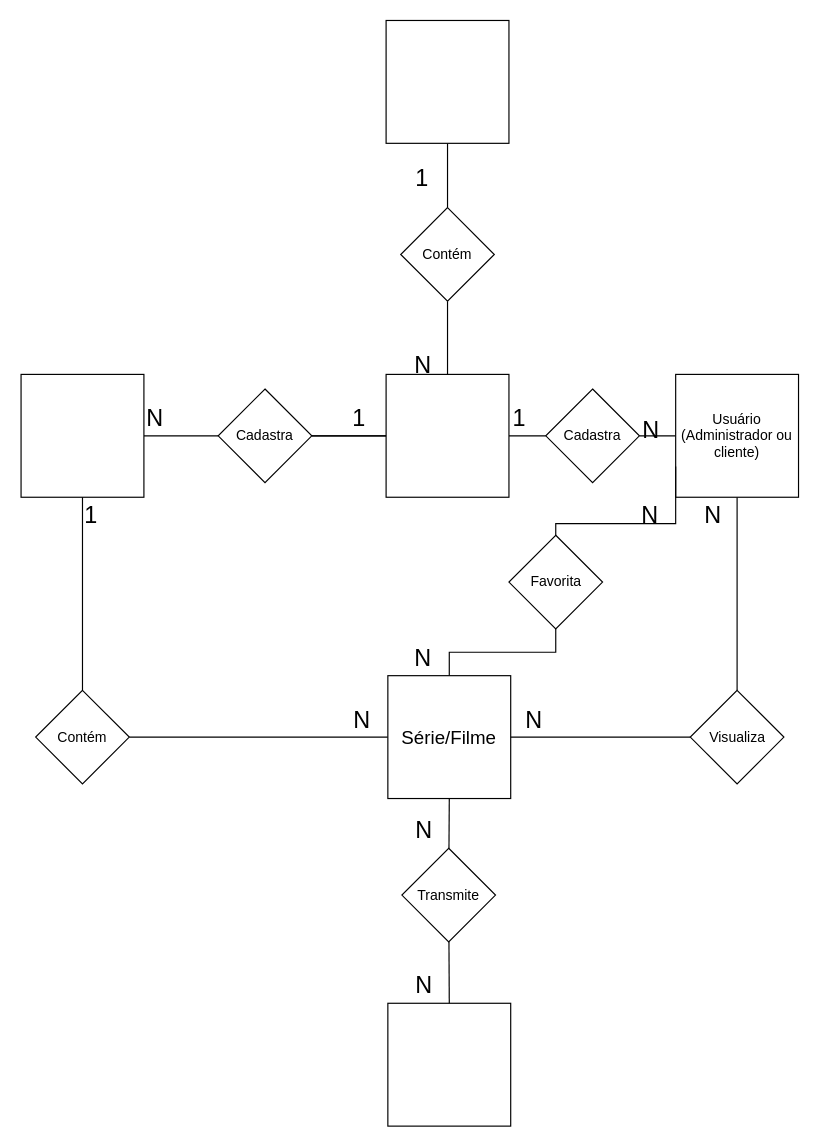
This 819x1147 diagram has some shape labels left out. The shapes that lost their labels are listed below. From the top down, each one's box as (x1, y1, x2, y2) in pixels, then its label:
(385, 19, 509, 143): OpFlix
(20, 373, 144, 497): Categoria
(385, 373, 509, 497): Administrador
(387, 1002, 511, 1126): Veiculos
